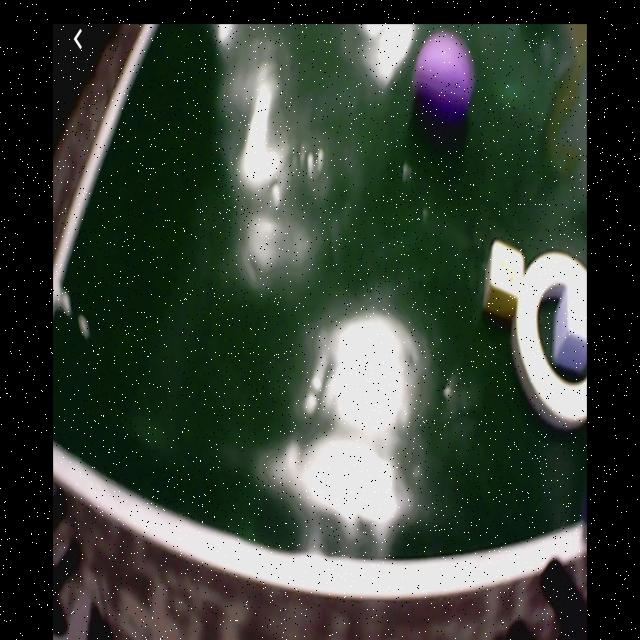ball: (412, 35, 478, 129)
